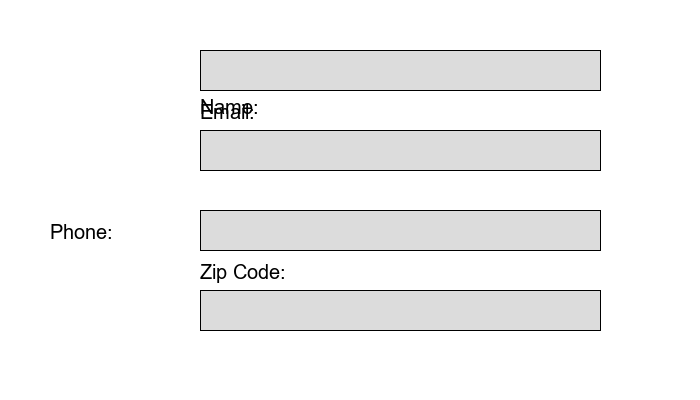Label: (200, 260, 280, 279), (50, 220, 107, 235), (200, 95, 253, 110), (200, 100, 249, 115)
Textbox: (200, 50, 600, 90), (200, 130, 600, 170), (200, 210, 600, 250), (200, 290, 600, 330)
